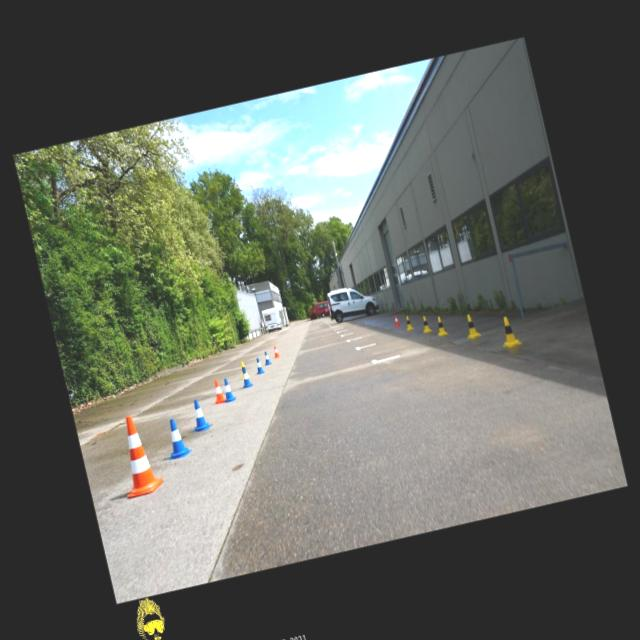blue_cone: (160, 416, 192, 460), (186, 398, 212, 432), (220, 377, 237, 402), (238, 366, 252, 388), (253, 356, 264, 374), (262, 350, 271, 365)
large_orange_cone: (110, 412, 164, 497)
orange_cone: (210, 379, 226, 404), (272, 344, 280, 358), (392, 314, 400, 327)
yellow_cone: (496, 314, 522, 348), (462, 312, 481, 339), (432, 314, 447, 336), (419, 314, 432, 333), (238, 360, 250, 380), (404, 314, 414, 331)
